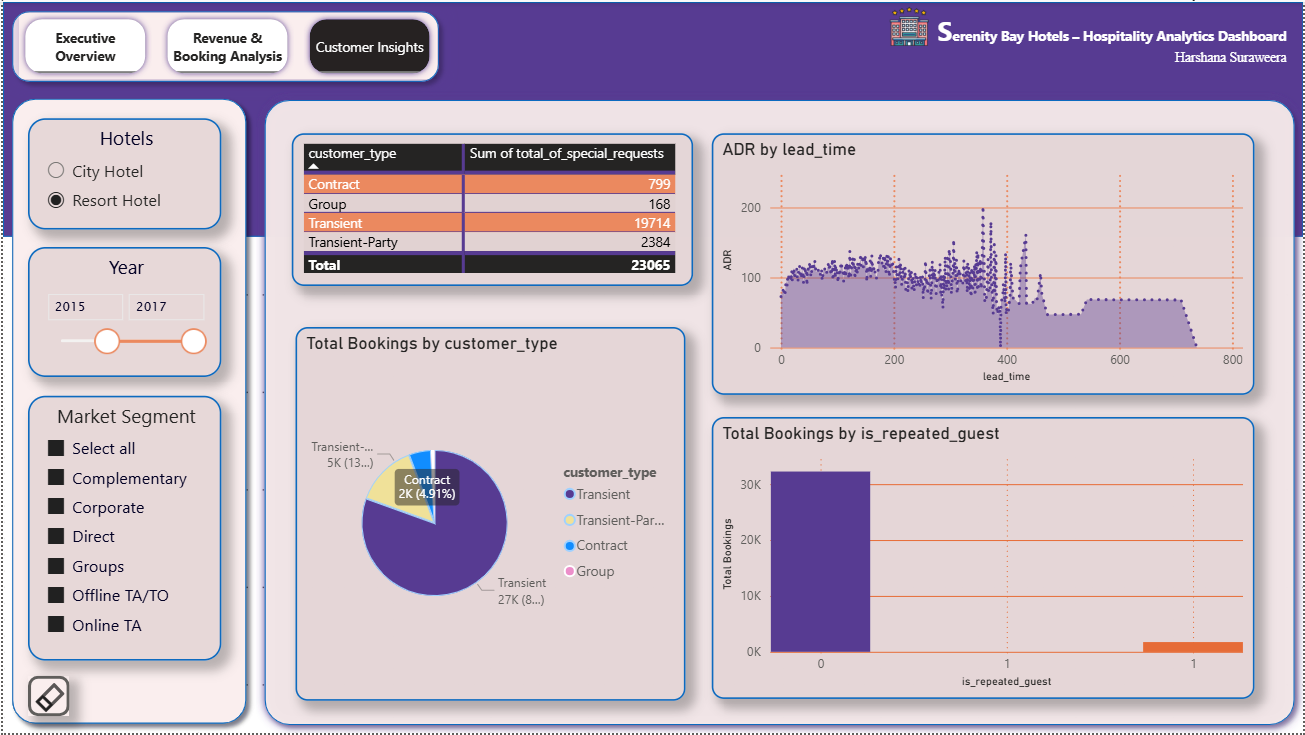

Layout of this report page (visuals, bound fields, positions):
{"tool":"powerbi","page":{"name":"Customer Insights","canvas":[1280,720],"ordinal":2},"visuals":[{"type":"shape","box":[0,0,1280.3,231.1],"z":0},{"type":"shape","box":[248.2,86.8,1032.1,633.4],"z":1000},{"type":"shape","box":[0,0,438.3,87.7],"z":2000},{"type":"pieChart","fields":{"Category":["hotel_bookings_cleaned.customer_type"],"Y":["mesures.Total Bookings"]},"box":[288,320,384,368],"z":3000},{"type":"clusteredColumnChart","fields":{"Y":["mesures.Total Bookings"],"Category":["hotel_bookings_cleaned.is_repeated_guest"]},"box":[698.2,408.4,534.4,277.6],"z":4000},{"type":"lineChart","fields":{"Category":["hotel_bookings_cleaned.lead_time"],"Y":["mesures.ADR"]},"box":[698.4,129.4,534.3,257.4],"z":5000},{"type":"tableEx","fields":{"Values":["hotel_bookings_cleaned.customer_type","Sum(hotel_bookings_cleaned.total_of_special_requests)"]},"box":[283.8,129.4,395.1,150.3],"z":6000},{"type":"shape","box":[0,86.6,248.5,633.4],"z":7000},{"type":"slicer","title":"Hotels","fields":{"Values":["hotel_bookings_cleaned.hotel"]},"box":[24.1,114.6,190.6,109.8],"z":8000},{"type":"slicer","title":"Year","fields":{"Values":["DateTable.Year"]},"box":[24.1,241.3,190.6,127.9],"z":9000},{"type":"slicer","title":"Market Segment","fields":{"Values":["hotel_bookings_cleaned.market_segment"]},"box":[24.1,387.3,190.6,260.6],"z":10000},{"type":"pageNavigator","box":[15.7,10.9,411.4,65.1],"z":11000},{"type":"actionButton","box":[24.1,663.5,41,39.8],"z":12000},{"type":"image","box":[860,0,64,48],"z":12001},{"type":"textbox","box":[878,4.9,391.3,83.2],"z":12002}]}

Visuals, with their boxes in screenshot pixels (x1, y1, x2, y2), scaled from the page's 1280x720 canvas onto the 1305x735 screenshot:
shape: bbox=(0, 0, 1304, 236)
shape: bbox=(253, 89, 1304, 734)
shape: bbox=(0, 0, 447, 90)
pieChart - hotel_bookings_cleaned.customer_type x mesures.Total Bookings: bbox=(294, 327, 685, 702)
clusteredColumnChart - mesures.Total Bookings x hotel_bookings_cleaned.is_repeated_guest: bbox=(712, 417, 1257, 700)
lineChart - hotel_bookings_cleaned.lead_time x mesures.ADR: bbox=(712, 132, 1257, 395)
tableEx - hotel_bookings_cleaned.customer_type x Sum(hotel_bookings_cleaned.total_of_special_requests): bbox=(289, 132, 692, 286)
shape: bbox=(0, 88, 253, 734)
"Hotels" slicer: bbox=(25, 117, 219, 229)
"Year" slicer: bbox=(25, 246, 219, 377)
"Market Segment" slicer: bbox=(25, 395, 219, 661)
pageNavigator: bbox=(16, 11, 435, 78)
actionButton: bbox=(25, 677, 66, 718)
image: bbox=(877, 0, 942, 49)
textbox: bbox=(895, 5, 1294, 90)
